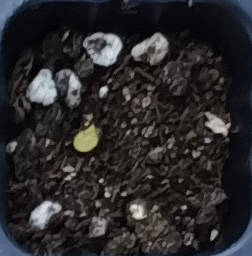pepper seed: (22, 46, 123, 200)
